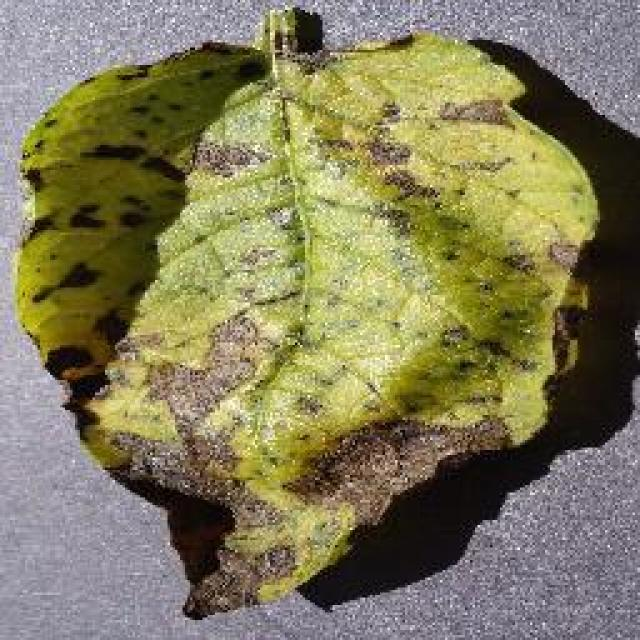Potato___Early_blight: (11, 6, 607, 623)
